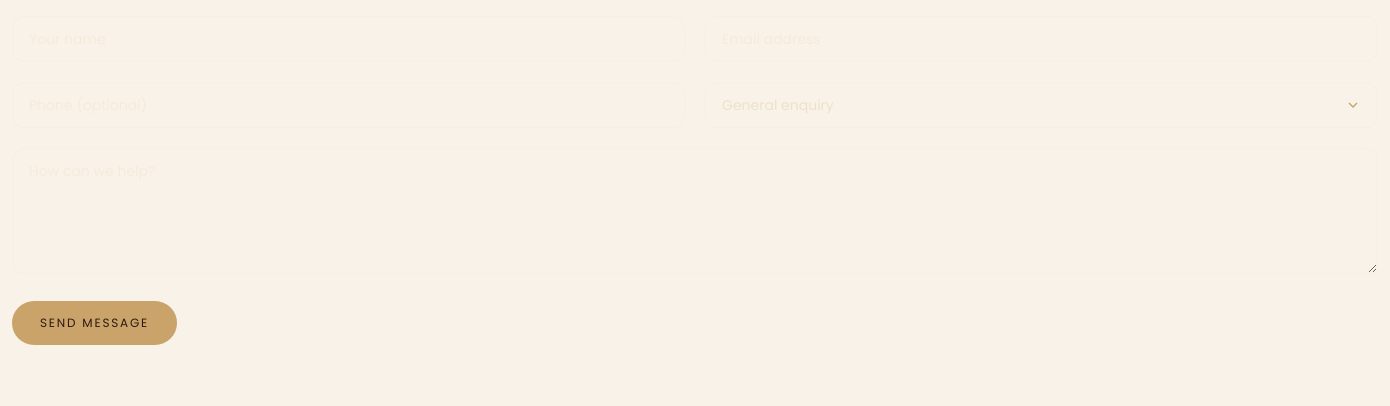
Scenario: ContactForm › an empty form shows what's missing and sends nothing
Click the button "Send Message" at (95, 323), box [12,301,177,345]
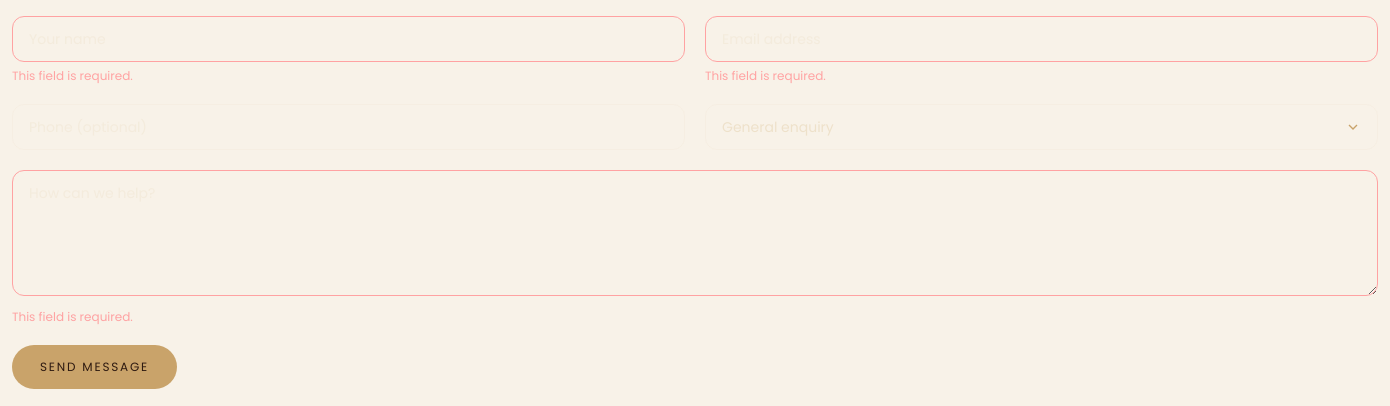
Expected: the text "This field is required." is shown 3 times, [12,67,133,84]; [705,67,826,84]; [12,308,133,325]
